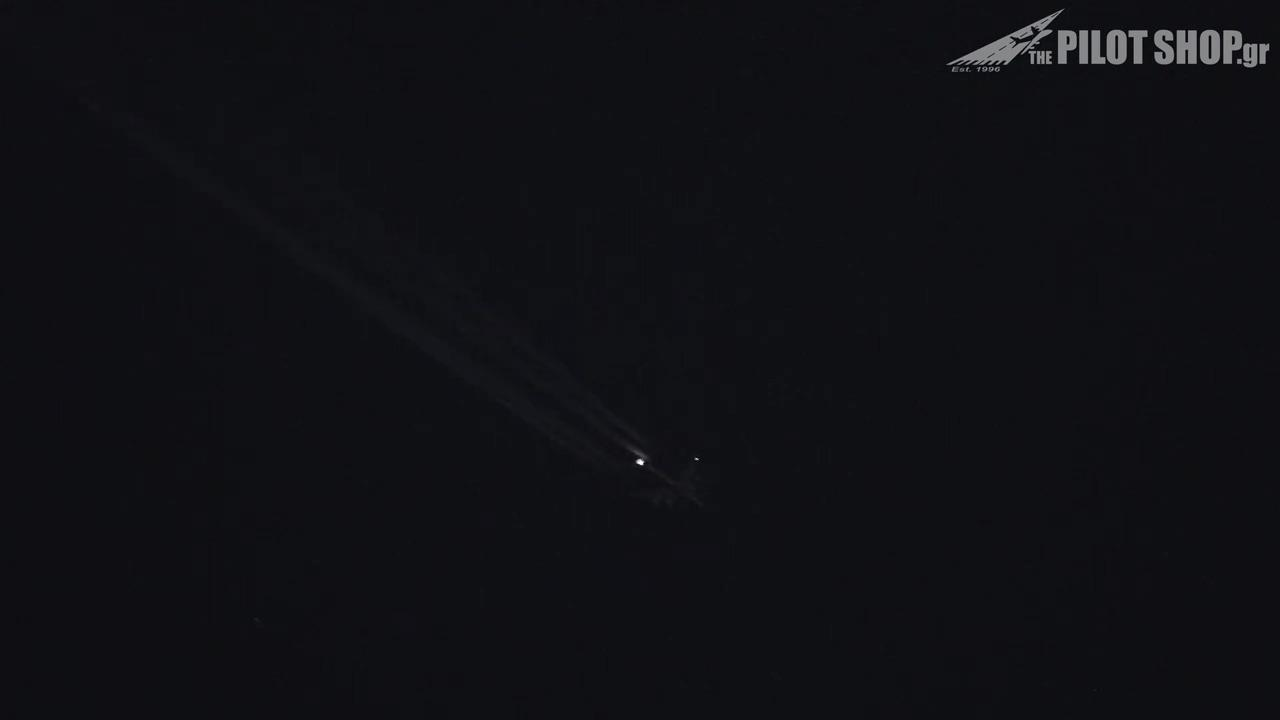Plane: (554, 400, 787, 544)
